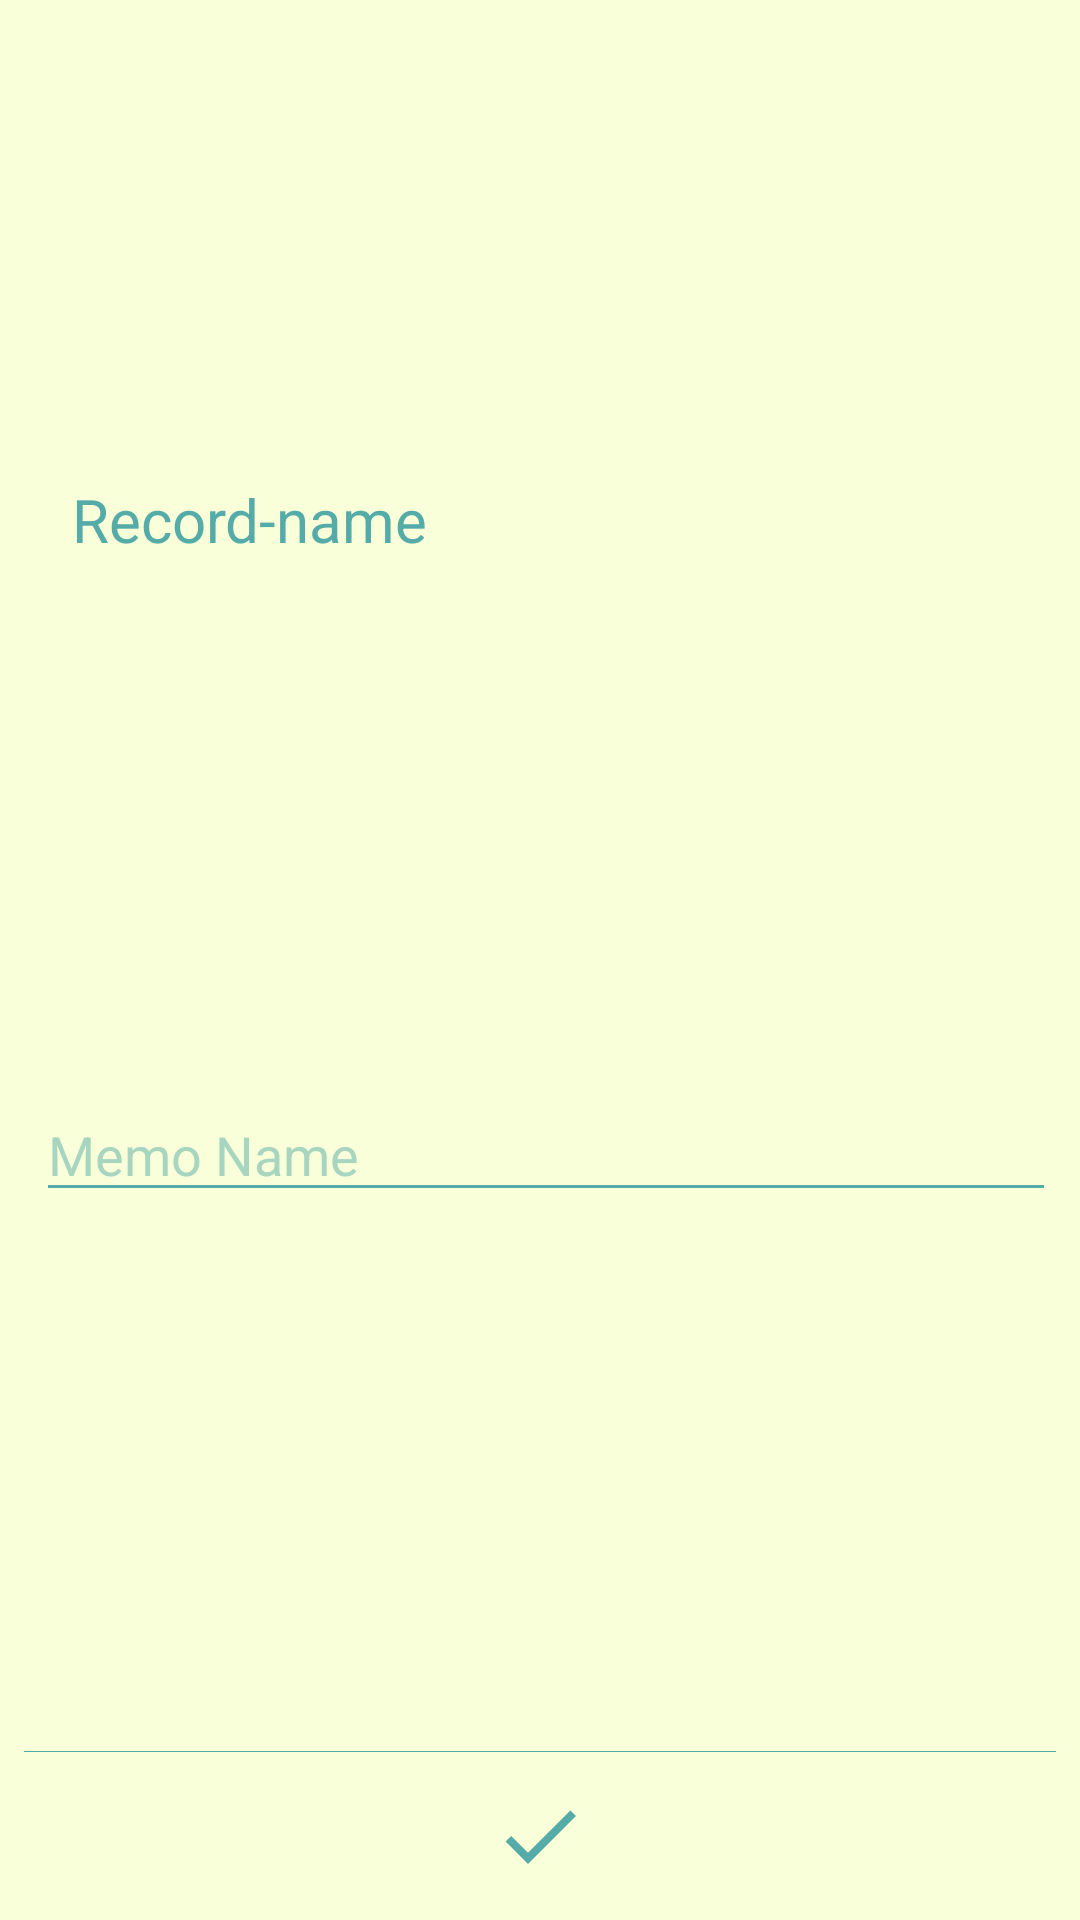

Where icons sit on this 1080w x 1920h app screen, as bbox=(x1, y1, x2, y2):
check main: bbox=(506, 1810, 576, 1864)
